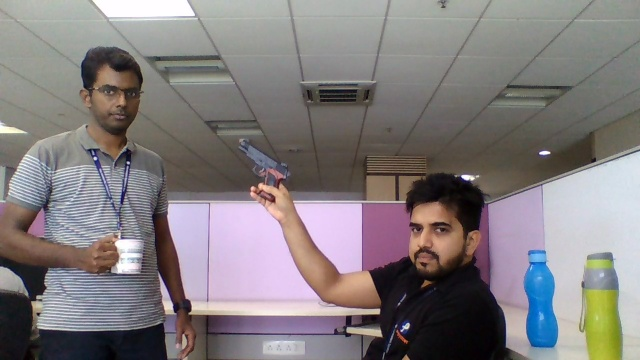gun: (239, 135, 291, 183)
